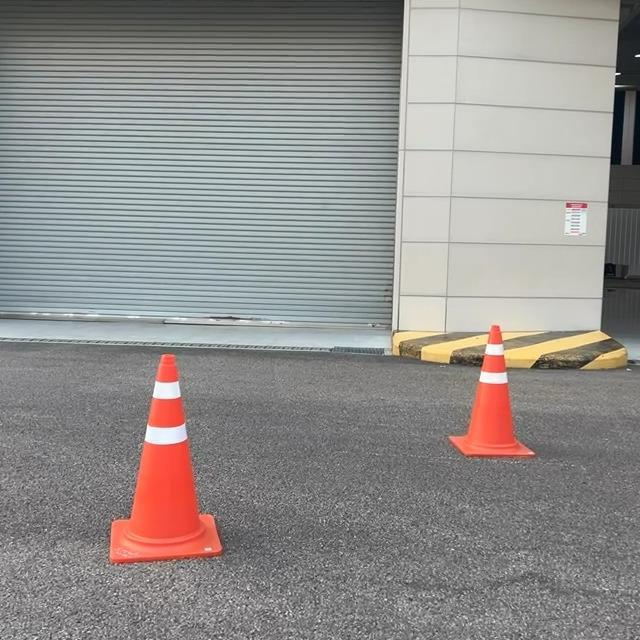fallen_object: (97, 319, 251, 610), (400, 319, 564, 500)
